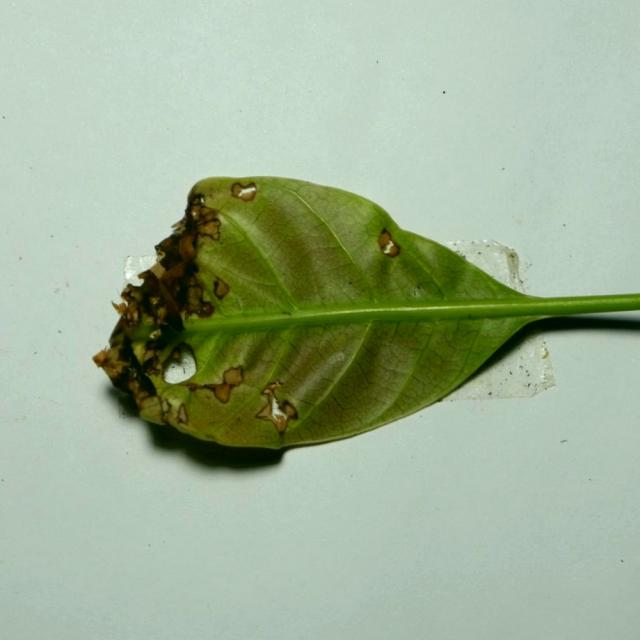Anthracnose: (373, 223, 504, 304), (420, 314, 523, 407), (205, 203, 285, 299), (178, 361, 280, 434), (269, 190, 353, 272), (278, 332, 363, 410), (145, 312, 268, 345), (396, 340, 460, 401), (169, 325, 228, 381), (173, 253, 217, 319), (302, 253, 371, 294), (394, 253, 453, 300), (189, 258, 229, 312), (149, 323, 194, 367), (370, 249, 411, 290), (244, 346, 292, 374), (159, 383, 192, 416), (136, 393, 167, 425), (207, 227, 250, 249), (126, 321, 159, 342), (110, 330, 126, 347)
Lemon: (94, 177, 639, 456)
